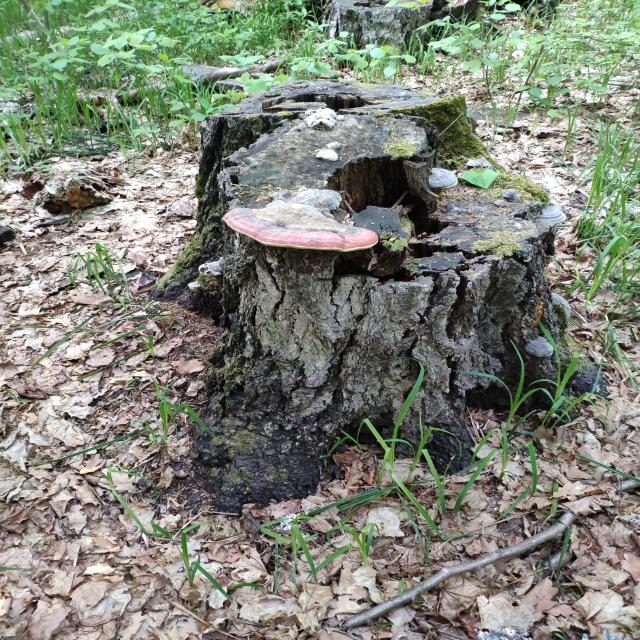restos de madeira: (183, 80, 585, 495), (339, 497, 604, 635)
